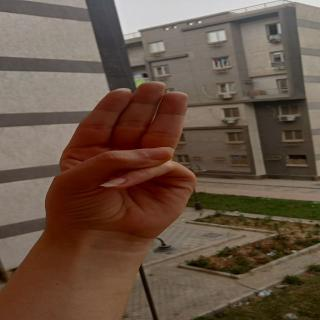THA: (37, 76, 241, 242)
